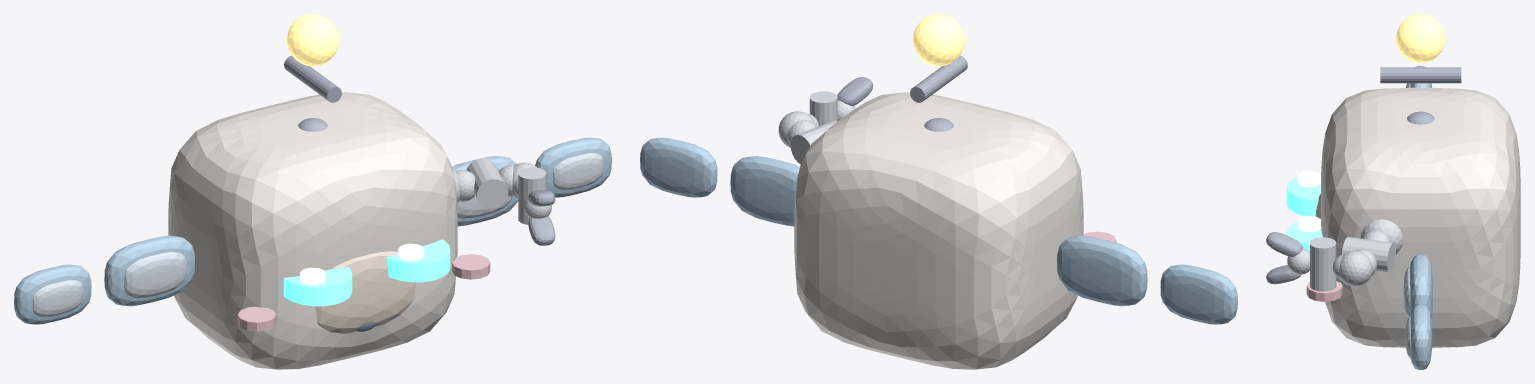
File: pet_stage2_junior.glb
The picture shows the model from 3 angles, left to right: view 1: azimuth 30°, elevation 25°; view 2: azimuth 150°, elevation 25°; view 3: azimuth 270°, elevation 25°; orthographic projection. The views are drawn at different scales.
Parts seen in each view (by area): view 1: d1, d2, d15, d17, d16, d14, d25, d21, d3, d6, d18, d22 (+7 smaller); view 2: d1, d15, d19, d21, d17, d14, d27, d13, d25, d28, d26; view 3: d1, d27, d14, d25, d13, d21, d19, d26, d3, d24, d28, d6 (+6 smaller).
Boxes of the visible parts, x1,y1,x2,y2 form: d1: [168, 92, 457, 369]; d2: [315, 251, 415, 333]; d15: [104, 235, 194, 306]; d17: [14, 264, 91, 324]; d16: [124, 252, 186, 298]; d14: [286, 14, 339, 66]; d25: [456, 158, 514, 208]; d21: [535, 137, 611, 197]; d3: [283, 266, 352, 306]; d6: [386, 239, 450, 282]; d18: [32, 280, 83, 316]; d22: [553, 153, 603, 189]; d1: [794, 92, 1083, 369]; d15: [1057, 235, 1147, 306]; d19: [730, 156, 799, 226]; d21: [640, 137, 717, 197]; d17: [1160, 264, 1237, 324]; d14: [912, 14, 965, 66]; d27: [807, 91, 855, 126]; d13: [910, 55, 967, 102]; d25: [787, 119, 837, 164]; d28: [837, 77, 873, 106]; d26: [778, 111, 815, 147]; d1: [1321, 87, 1520, 348]; d27: [1287, 237, 1343, 291]; d14: [1396, 14, 1445, 62]; d25: [1342, 230, 1395, 276]; d13: [1380, 67, 1461, 83]; d21: [1410, 304, 1432, 369]; d19: [1410, 254, 1433, 318]; d26: [1339, 250, 1372, 286]; d3: [1286, 173, 1320, 216]; d24: [1360, 219, 1403, 253]; d28: [1266, 232, 1302, 256]; d6: [1286, 222, 1322, 251].
Bounding box in the file's own units: 0.678 × 0.3626 × 0.2674.
